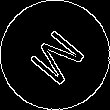M_SE: (21, 21, 89, 89)
